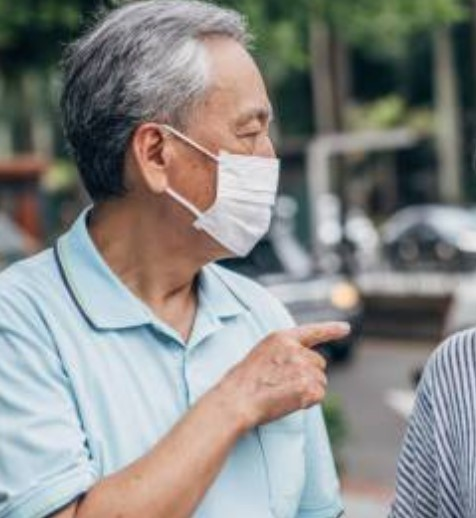face_with_mask: (65, 7, 279, 256)
